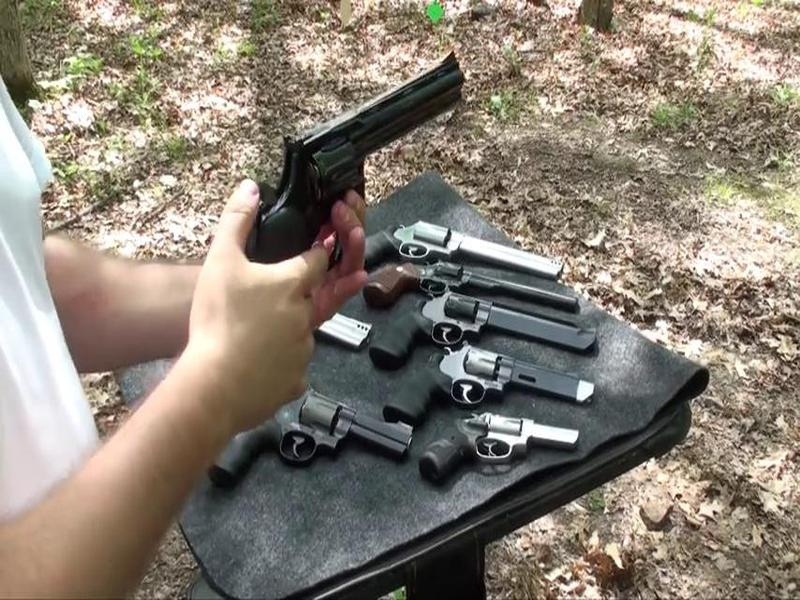Revolver: (247, 43, 474, 265)
